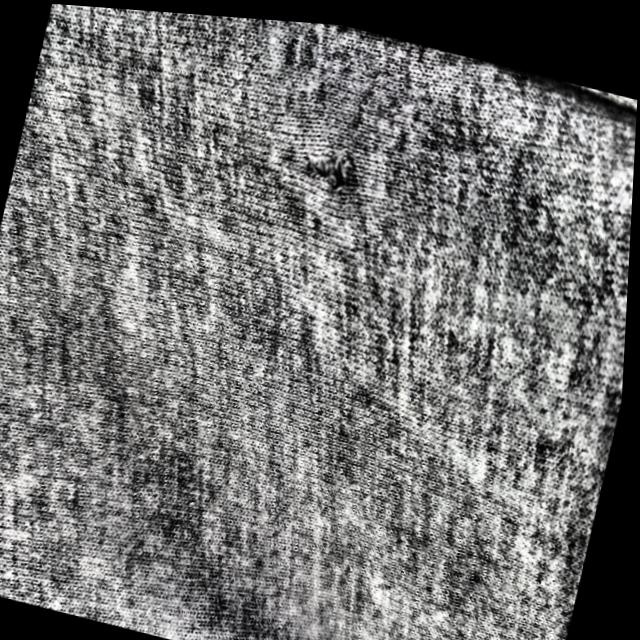Hole: (281, 126, 373, 216)
